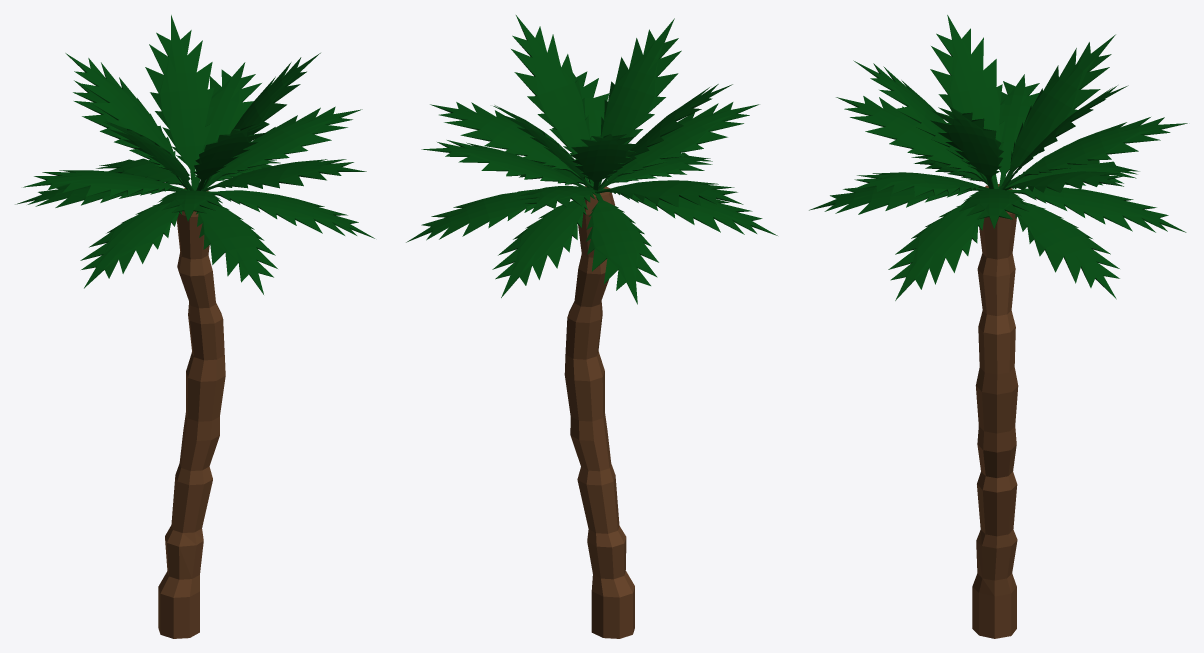
Rendered from Palme2.fbx.
3 views of the same model, side by side, from view 1: azimuth 30°, elevation 25°; view 2: azimuth 150°, elevation 25°; view 3: azimuth 270°, elevation 25° (orthographic). The views are drawn at different scales.
Parts seen in each view (by area): view 1: Palme2; view 2: Palme2; view 3: Palme2.
Boxes of the visible parts, x1=… form: Palme2: x1=15, y1=15, x2=374, y2=638; Palme2: x1=406, y1=15, x2=777, y2=638; Palme2: x1=809, y1=15, x2=1187, y2=638.
Size of the model in its own units: 500 by 825 by 489.
